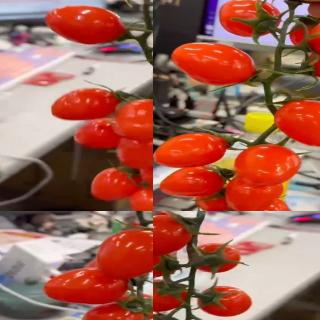tomato: (170, 41, 254, 84), (43, 265, 130, 305), (45, 4, 127, 44), (93, 224, 153, 278), (234, 142, 302, 184), (154, 132, 228, 169), (49, 86, 121, 121), (220, 0, 282, 38), (273, 97, 320, 147), (225, 174, 284, 211), (159, 166, 226, 198), (89, 166, 145, 203), (197, 284, 254, 316), (73, 117, 127, 150), (153, 212, 193, 256), (114, 99, 153, 141), (195, 242, 242, 272), (116, 132, 153, 170), (194, 184, 246, 211), (153, 280, 188, 313), (80, 302, 144, 320), (153, 245, 183, 278), (120, 293, 153, 320), (236, 197, 289, 211), (127, 185, 153, 211)
